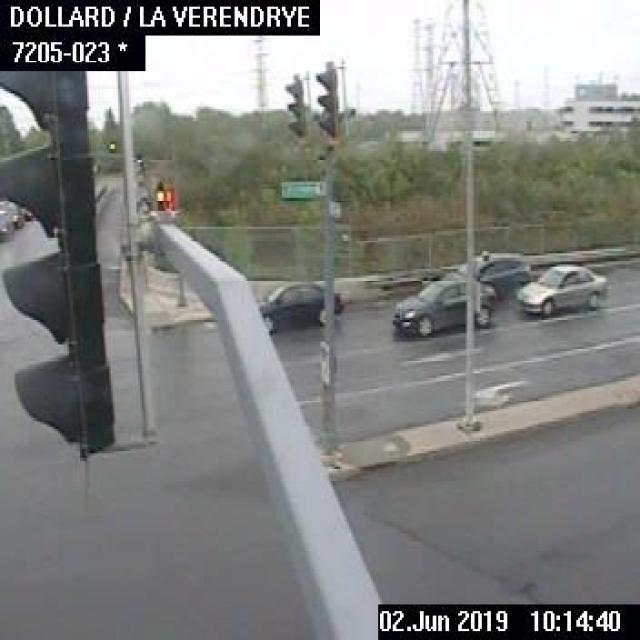vehicle: (389, 268, 493, 336), (511, 260, 609, 316), (258, 278, 350, 329), (458, 247, 534, 297), (0, 211, 15, 242)
